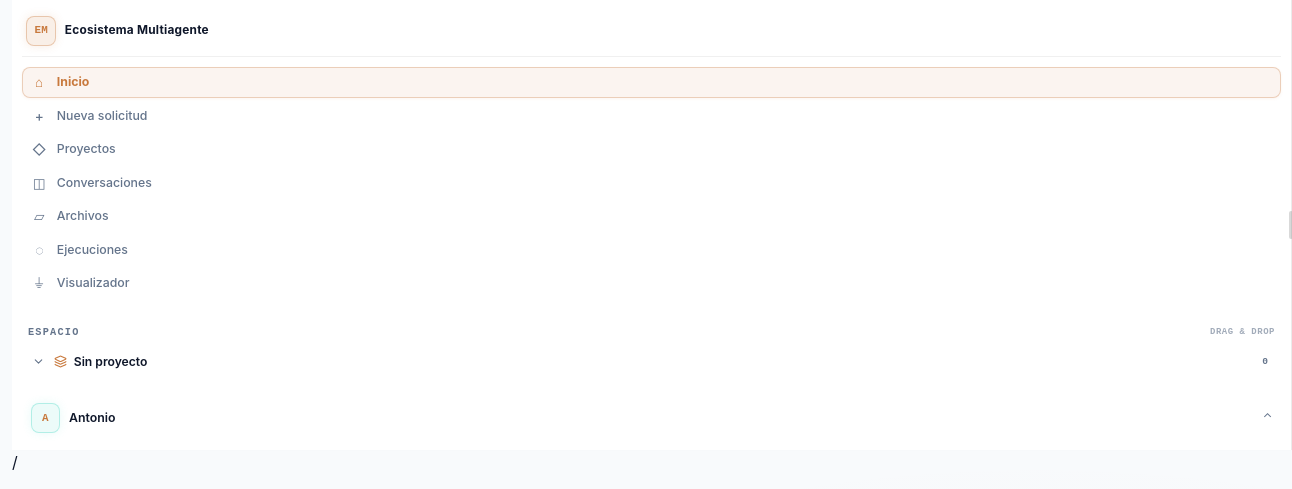
navigates to Configuración and closes the menu
Click the button with aria-label "Perfil de Antonio" at (92, 417), box [22,396,1281,440]
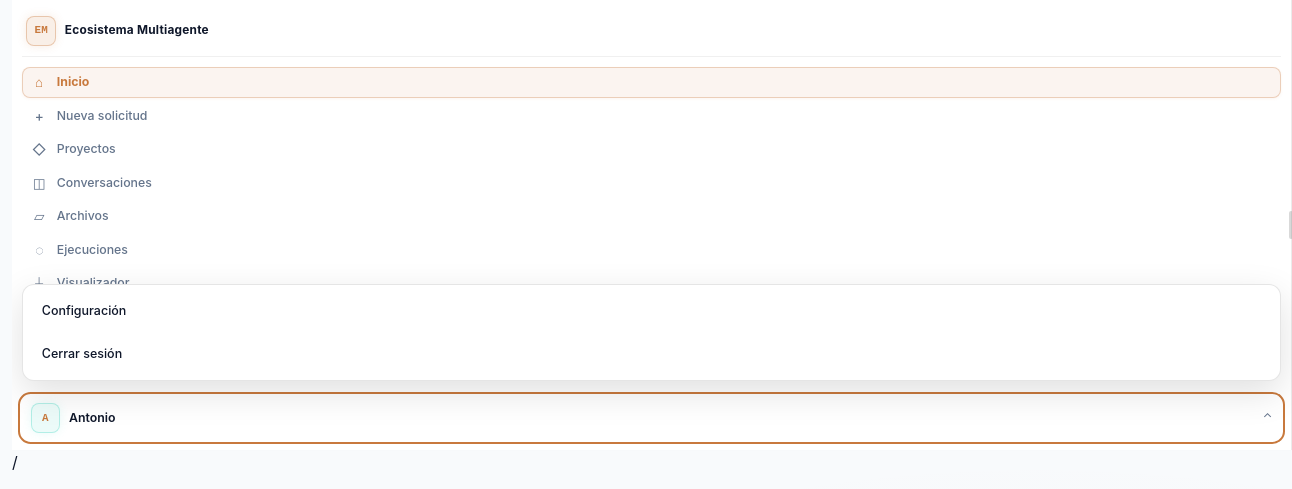
Click the menu item "Configuración" at (84, 310), box [30,292,1273,331]
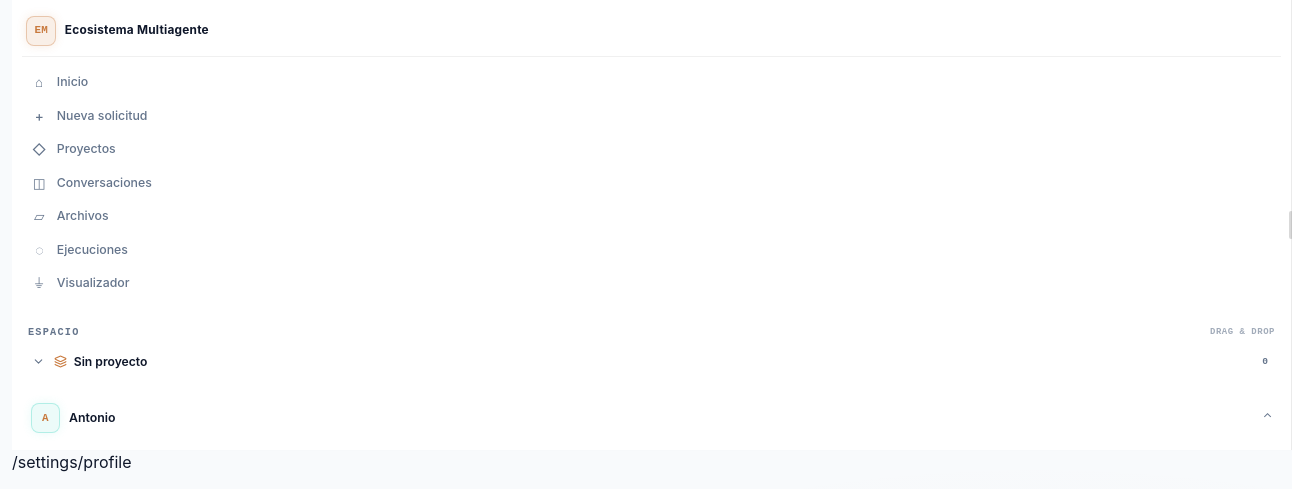
Result: the text named "Ruta actual" reads "/settings/profile" at [12,452,132,472]
Result: the menu is gone
